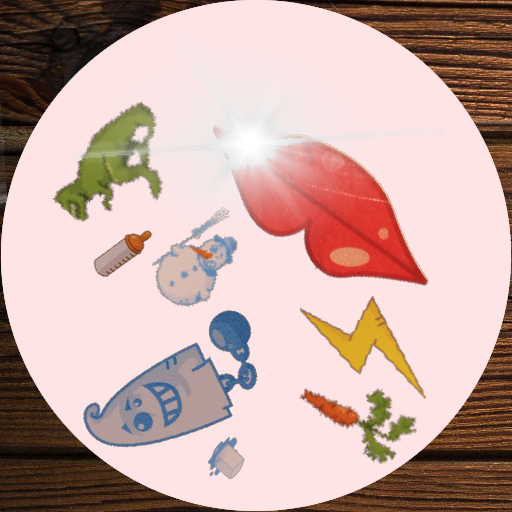bottle_icon: (89, 218, 158, 287)
carrot_icon: (294, 364, 417, 487)
cube_icon: (204, 436, 254, 486)
dino_icon: (40, 92, 172, 224)
ghost_icon: (72, 287, 275, 490)
lightning_icon: (295, 276, 441, 422)
lips_icon: (213, 79, 447, 313)
snowman_icon: (143, 200, 251, 308)
